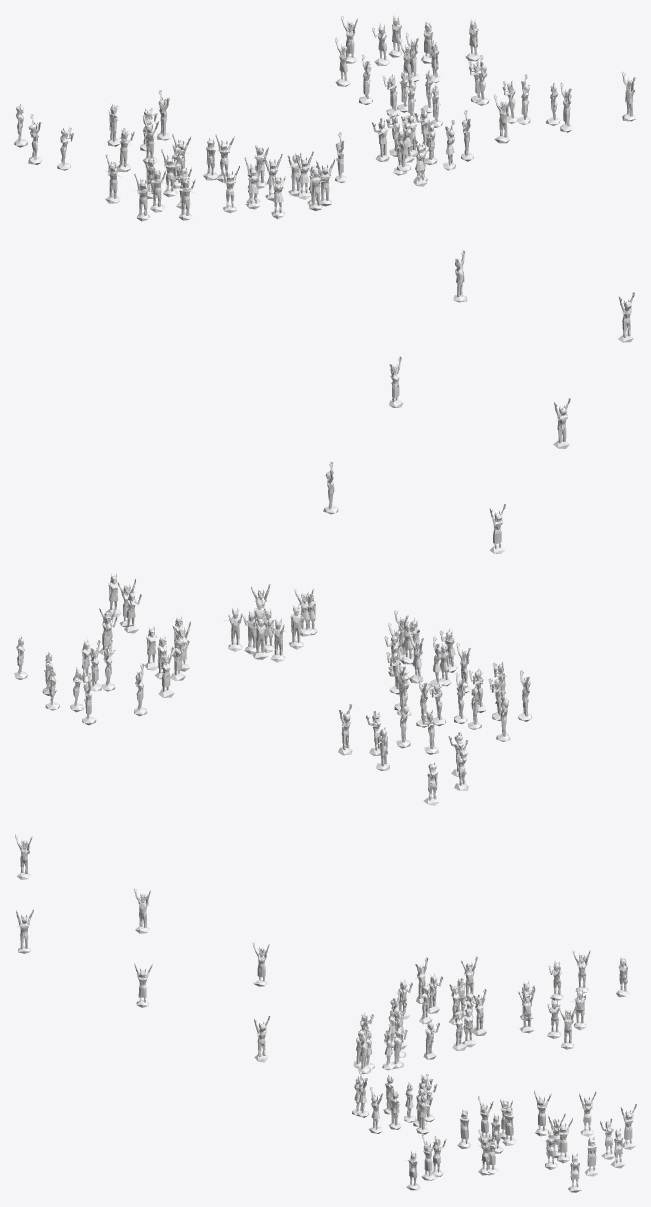
File: Statues_floor.obj
The picture shows the model from 3 angles, top to bottom: view 1: azimuth 30°, elevation 25°; view 2: azimuth 150°, elevation 25°; view 3: azimuth 270°, elevation 25°; orthographic projection. The views are drawn at different scales.
Visible parts, largest first — view 1: Statues_floor; view 2: Statues_floor; view 3: Statues_floor.
Part boxes in pixels (x1,y1,x2,y2): Statues_floor: [14, 15, 636, 221]; Statues_floor: [14, 250, 635, 805]; Statues_floor: [15, 834, 636, 1192].
Size of the model in its own units: 24.53 by 12.28 by 31.5.
Materials: 1 (1 with a texture image).
